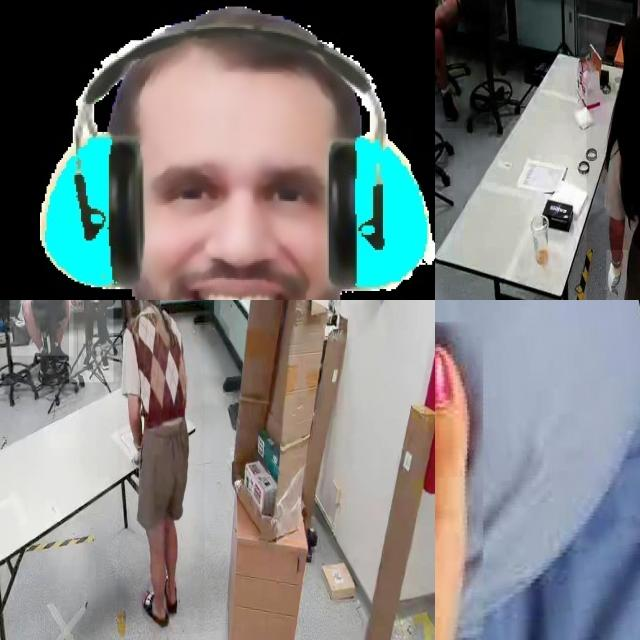Barefoots: (435, 301, 509, 640)
Ear-protection: (25, 32, 435, 296)
hand_glove: (606, 250, 627, 300)
head_nohelmet: (622, 13, 640, 58)
person: (117, 300, 204, 634), (586, 0, 640, 300), (435, 0, 489, 129), (69, 300, 114, 383), (9, 300, 73, 356)
shoes: (435, 80, 461, 130), (51, 339, 71, 368), (36, 349, 52, 377)
